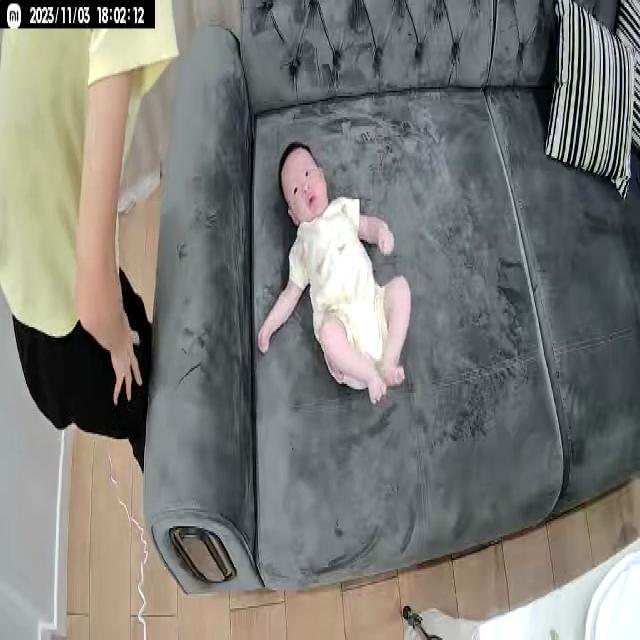baby: (257, 142, 411, 402)
